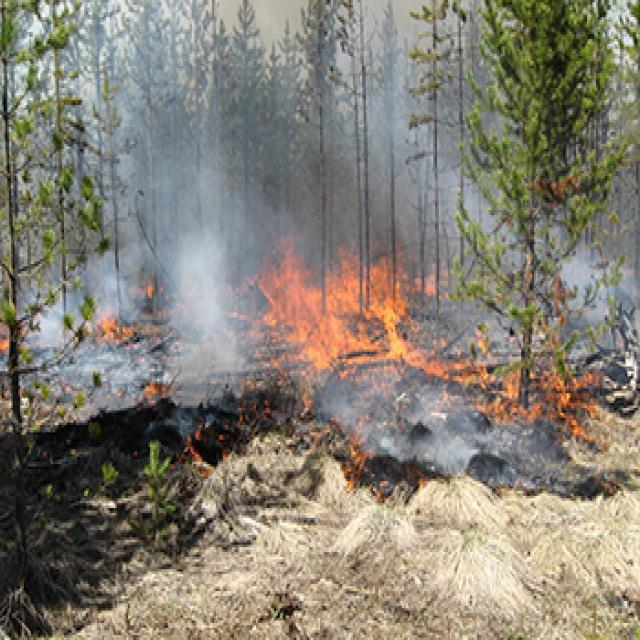Fire: (249, 226, 430, 385), (424, 323, 610, 447), (84, 314, 150, 350), (138, 377, 164, 406)
Smoke: (322, 370, 588, 498), (24, 238, 168, 411), (493, 188, 632, 336), (165, 216, 265, 406)
